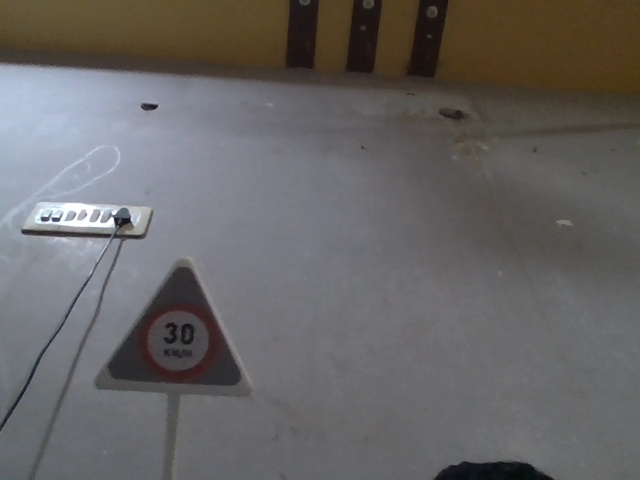speedlimit: (89, 261, 249, 396)
